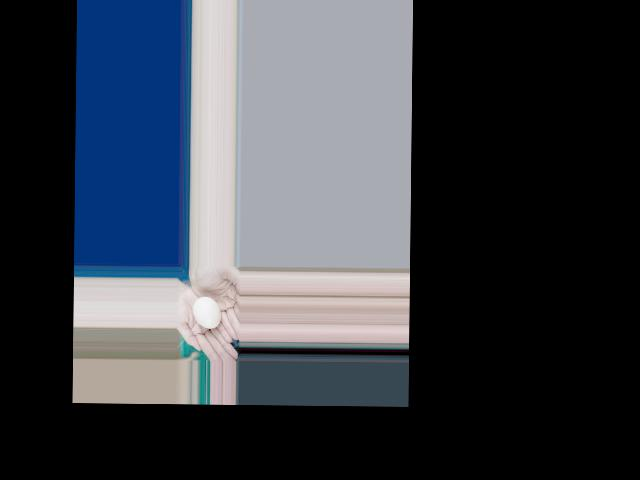egg: (193, 297, 221, 329)
